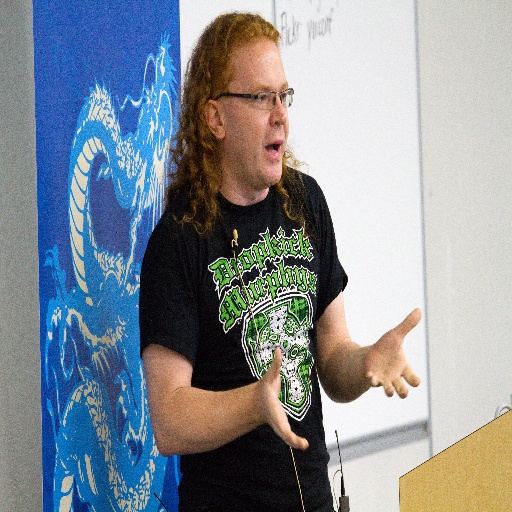hand: (250, 345, 311, 452), (360, 312, 422, 407)
